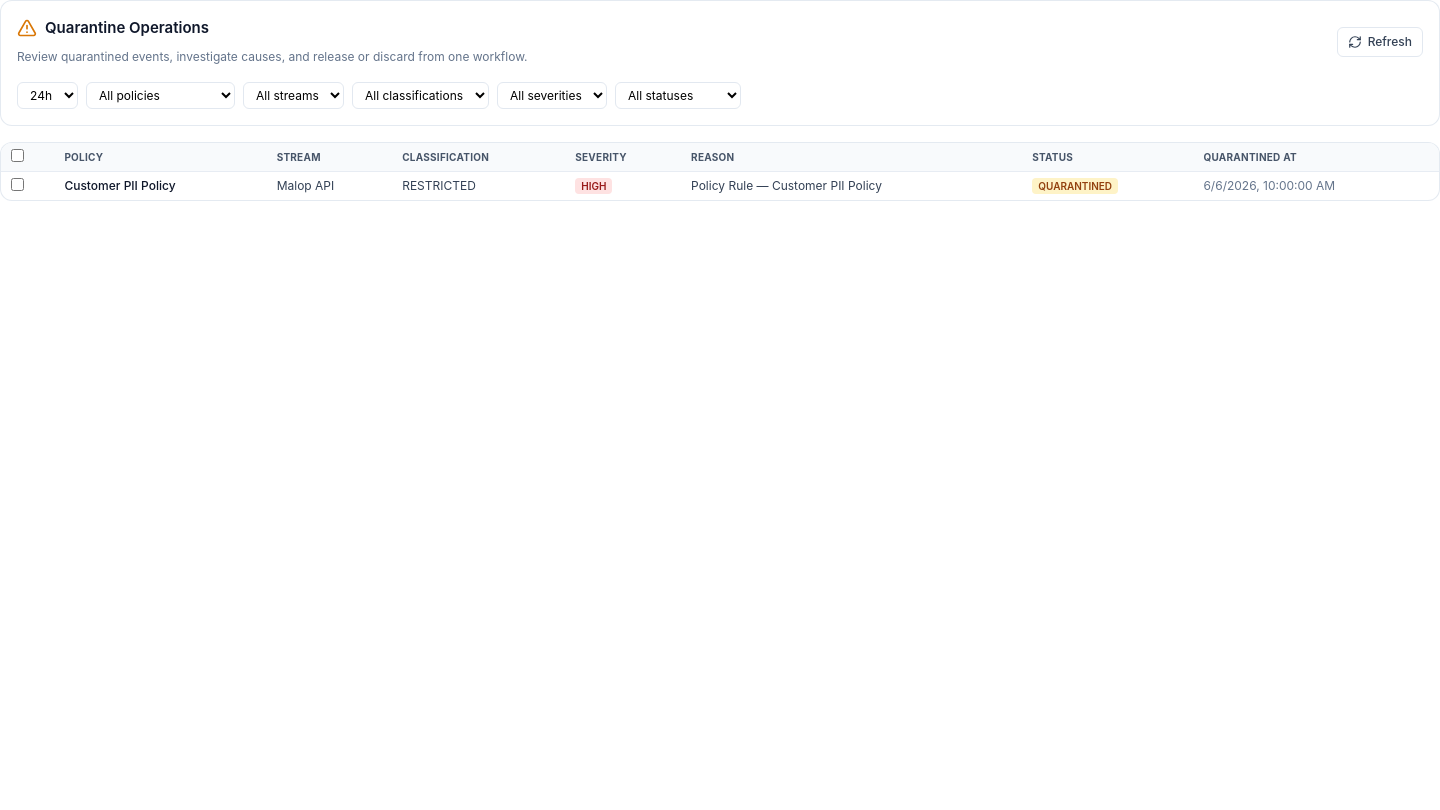
QuarantineCenterPage › opens investigation drawer with root cause strip
Click the row with test id "quarantine-row-42": (720, 186) [1,171,1439,200]
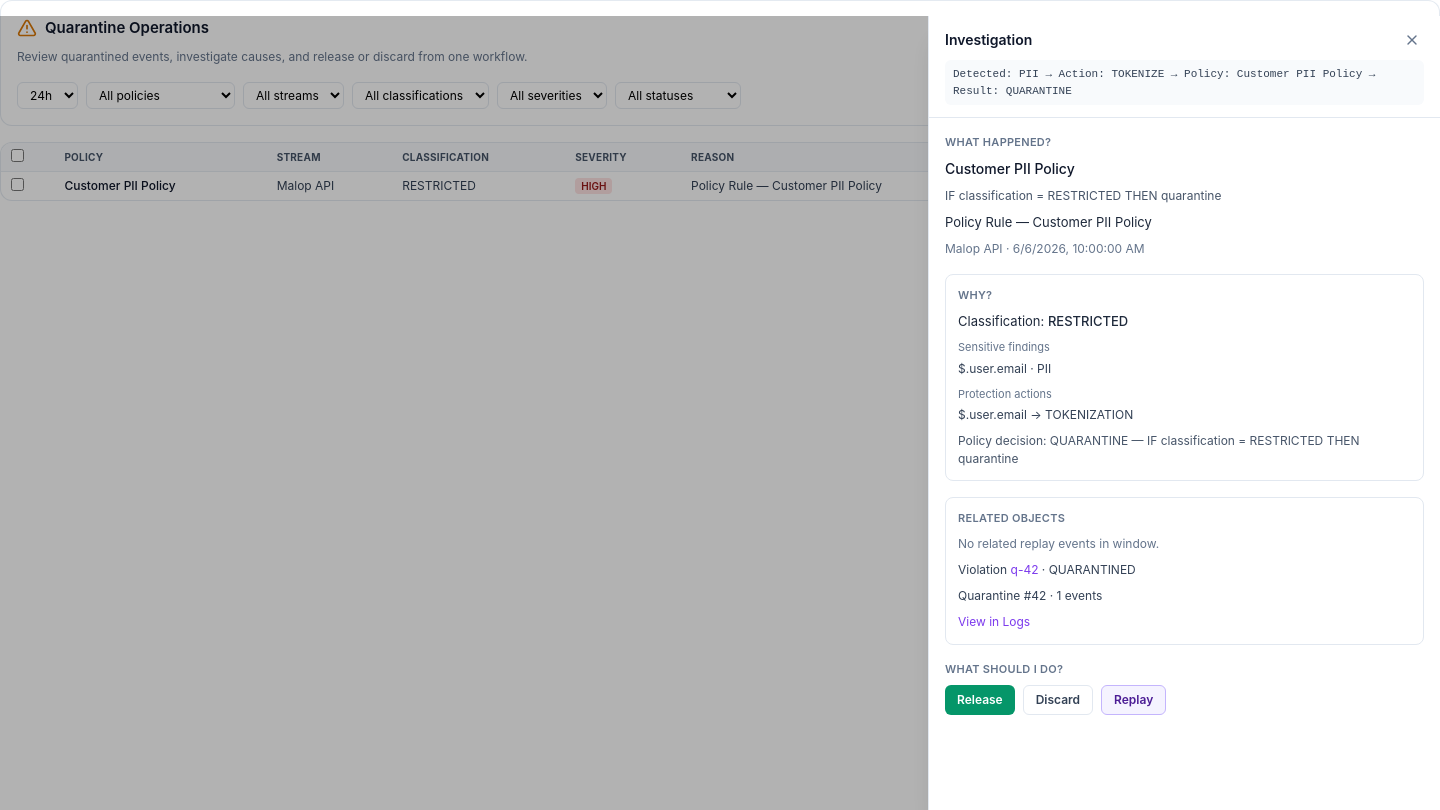
Expected: the element with test id "quarantine-detail-drawer" is shown, [928,16,1439,809]
Expected: the text with test id "quarantine-root-cause-strip" shows "Detected: PII", [953,68,1376,96]
Expected: the element with test id "quarantine-section-what-happened" is shown, [945,135,1221,256]
